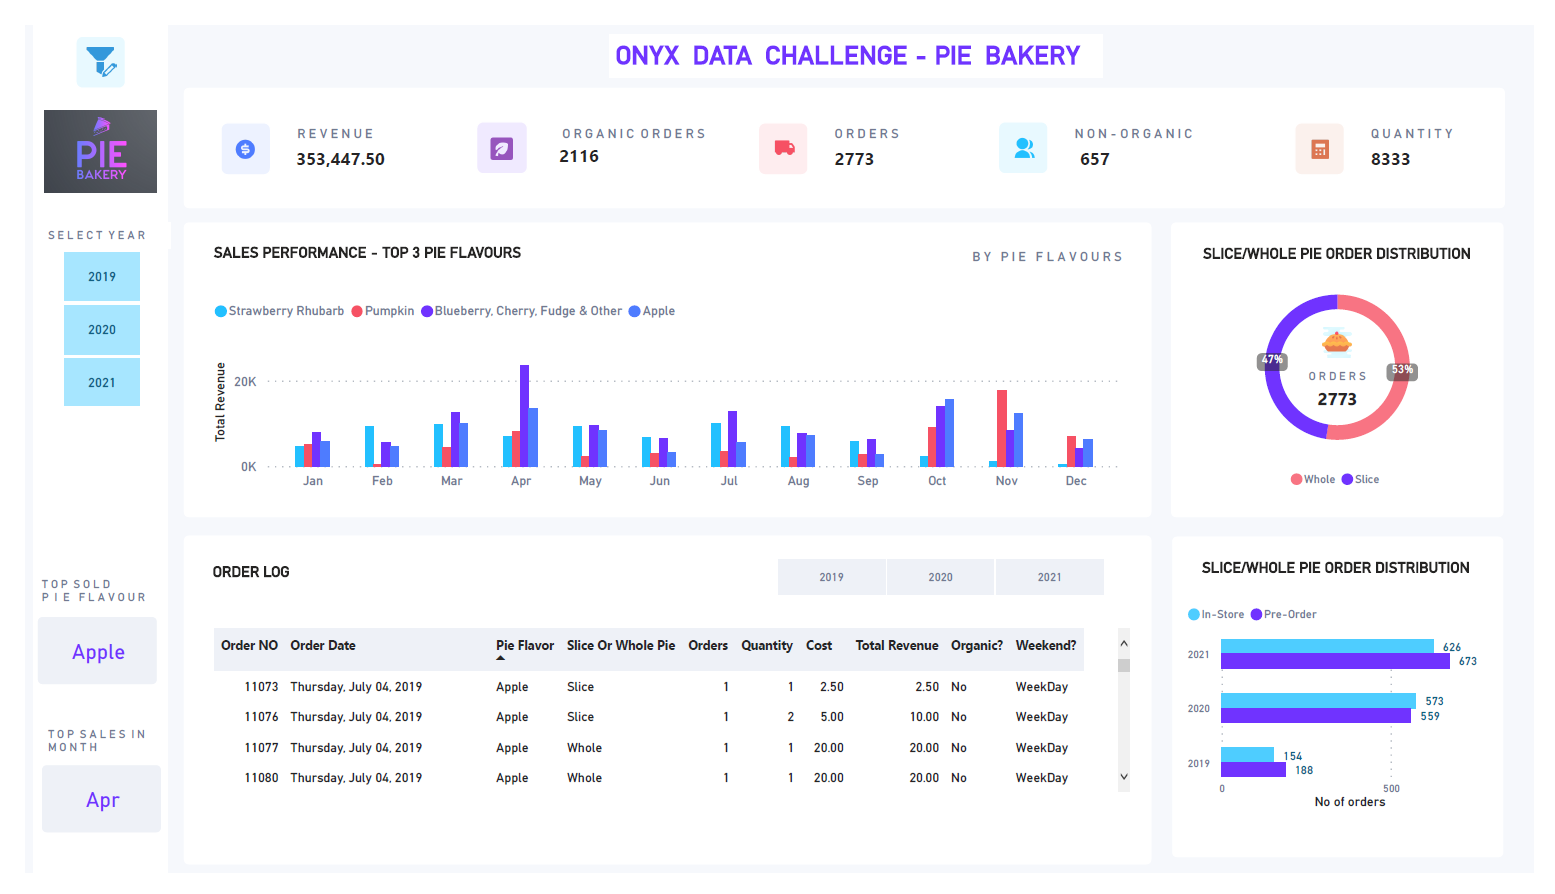

This screenshot's page, from the dashboard's own definition file:
{"tool":"powerbi","page":{"name":"Page 1","canvas":[1280,720],"ordinal":0},"visuals":[{"type":"basicShape","box":[43.1,9.8,42.8,44.7],"z":0,"group":"g5"},{"type":"group","id":"g1","title":"KPI","box":[134.6,54,1120.9,102.2],"z":0},{"type":"basicShape","box":[134.6,54,1120.9,102.2],"z":0,"group":"g1"},{"type":"basicShape","box":[134.6,168,821.2,250.5],"z":0,"group":"g3"},{"type":"basicShape","box":[972.5,168,281.9,250.5],"z":0,"group":"g2"},{"type":"basicShape","box":[134.6,434.2,821.2,279],"z":0,"group":"g4"},{"type":"basicShape","box":[973,435,281,272.1],"z":0,"group":"g6"},{"type":"image","box":[29.5,12.9,69.1,36.3],"z":1000,"group":"g5"},{"type":"textbox","box":[225.5,81.2,95.8,24],"z":1000,"group":"g1"},{"type":"group","id":"g2","title":"Donut","box":[972.5,168,281.9,250.5],"z":1000},{"type":"donutChart","fields":{"Y":["CountNonNull(Pi-Day Data.Order NO)"],"Category":["Pi-Day Data.Slice Or Whole Pie"]},"box":[972.5,204.4,281.9,199.4],"z":1000,"group":"g2"},{"type":"clusteredColumnChart","fields":{"Category":["Date Table (CALENDARAUTO).Month Short"],"Y":["Pi-Day Data.Total Revenue"],"Series":["Pi-Day Data.Pie Flavor (groups)"]},"box":[155,223.8,780.5,176.8],"z":1000,"group":"g3"},{"type":"clusteredBarChart","fields":{"Category":["Date Table (CALENDARAUTO).Year"],"Y":["CountNonNull(Pi-Day Data.Order NO)"],"Series":["Pi-Day Data.Pre-Order/In-Store Purchase"]},"box":[980.9,482.1,265.2,188.6],"z":1000,"group":"g6"},{"type":"tableEx","fields":{"Values":["Pi-Day Data.Order NO","Pi-Day Data.Order Date","Pi-Day Data.Pie Flavor","Pi-Day Data.Slice Or Whole Pie","CountNonNull(Pi-Day Data.Order NO)","Sum(Pi-Day Data.Quantity)","Sum(Pi-Day Data.Cost)","Pi-Day Data.Total Revenue","Pi-Day Data.Organic?","Pi-Day Data.Weekend?"]},"box":[155,507.5,786.7,157.6],"z":1000,"group":"g4"},{"type":"multiRowCard","fields":{"Values":["Pi-Day Data.Non - Organic Orders"]},"box":[890,98.1,95.6,30.1],"z":2000,"group":"g1"},{"type":"group","id":"g3","title":"Stacked Column Chart","box":[134.6,168,821.2,250.5],"z":2000},{"type":"textbox","title":"SALES PERFORMANCE - TOP 3 PIE FLAVOURS","box":[155,185.9,420.8,36.8],"z":2000,"group":"g3"},{"type":"textbox","title":"SLICE/WHOLE PIE ORDER DISTRIBUTION","box":[993.5,186.4,238.9,42],"z":2000,"group":"g2"},{"type":"textbox","title":"SLICE/WHOLE PIE ORDER DISTRIBUTION","box":[992.6,453.6,238.9,42],"z":2000,"group":"g6"},{"type":"textbox","title":"ORDER LOG","box":[154.3,457.5,271,47.6],"z":2000,"group":"g4"},{"type":"image","box":[385.1,88.3,38.9,35.4],"z":3000,"group":"g1"},{"type":"textbox","title":"SALES BY QUANTITY","box":[575.8,185.9,359.7,36.8],"z":3000,"group":"g3"},{"type":"image","box":[1070.7,252.4,85,35.4],"z":3000},{"type":"textbox","box":[1068.3,287.5,90.5,23.2],"z":3000,"group":"g2"},{"type":"slicer","fields":{"Values":["Date Table (CALENDARAUTO).Year"]},"box":[613,447.2,326,44.2],"z":3000,"group":"g4"},{"type":"basicShape","box":[6.9,0,114,721],"z":4000},{"type":"textbox","box":[885.5,81,122.6,24.3],"z":4000,"group":"g1"},{"type":"card","fields":{"Values":["CountNonNull(Pi-Day Data.Order NO)"]},"box":[1064,305.4,100,25.3],"z":4000,"group":"g2"},{"type":"textbox","box":[682,81.1,95.8,24],"z":5000,"group":"g1"},{"type":"group","id":"g4","title":"Group 2","box":[134.6,434.2,821.2,279],"z":5000},{"type":"textbox","box":[450.3,81.3,151.3,26.5],"z":6000,"group":"g1"},{"type":"textbox","box":[496.1,8.8,418.5,36.3],"z":7000},{"type":"basicShape","box":[382.7,82.4,43.6,44.8],"z":7000,"group":"g1"},{"type":"group","id":"g5","title":"Group 1","box":[29.5,9.8,68.8,44.2],"z":8000},{"type":"multiRowCard","fields":{"Values":["Pi-Day Data.No. Of Organic Orders"]},"box":[448,95.6,95.8,30],"z":8000,"group":"g1"},{"type":"textbox","box":[1137.3,81.1,95.8,24],"z":9000,"group":"g1"},{"type":"card","title":"Top Sold Pie Flavour","fields":{"Values":["Date Table (CALENDARAUTO).Top Sold Pie Flavour"]},"box":[10.8,503,101.2,57],"z":9000},{"type":"multiRowCard","fields":{"Values":["Pi-Day Data.Total Revenue"]},"box":[225.3,98.1,95.8,30],"z":10000,"group":"g1"},{"type":"textbox","box":[8.8,463.7,109,32.4],"z":10000},{"type":"multiRowCard","fields":{"Values":["Count(Pi-Day Data.Order NO)"]},"box":[681.7,97.9,95.8,30],"z":11000,"group":"g1"},{"type":"textbox","box":[13.8,591.4,99.2,32.4],"z":11000},{"type":"multiRowCard","fields":{"Values":["Sum(Pi-Day Data.Quantity)"]},"box":[1137.1,97.9,95.8,30],"z":12000,"group":"g1"},{"type":"card","title":"Top Sold Pie Flavour","fields":{"Values":["Pi-Day Data.Month with Most Sales"]},"box":[14,628.6,100.8,56.9],"z":12000},{"type":"image","box":[11.8,67.8,105.1,79.6],"z":13000},{"type":"basicShape","box":[165.4,83.1,42.9,45.1],"z":13000,"group":"g1"},{"type":"basicShape","box":[621.9,83,42.9,45.1],"z":14000,"group":"g1"},{"type":"slicer","fields":{"Values":["Date Table (CALENDARAUTO).Year"]},"box":[6.9,186.6,114,144.4],"z":14000},{"type":"basicShape","box":[825.7,82.7,42.9,45.1],"z":15000,"group":"g1"},{"type":"textbox","box":[13.8,168,109,21.6],"z":15000},{"type":"image","box":[832.9,90.5,29,30.5],"z":16000,"group":"g1"},{"type":"group","id":"g6","title":"Donut","box":[973,435,281,272.1],"z":16000},{"type":"basicShape","box":[1077.2,83,42.9,45.1],"z":17000,"group":"g1"},{"type":"image","box":[172.8,90.8,29,30.5],"z":18000,"group":"g1"},{"type":"image","box":[630.2,89.7,28.5,30],"z":19000,"group":"g1"},{"type":"image","box":[1084.4,90.8,29,30.5],"z":20000,"group":"g1"}]}

Visuals, with their boxes in screenshot pixels (x1, y1, x2, y2), scaled from the page's 1280x720 canvas onto the 1555x894 screenshot:
basicShape: [left=52, top=12, right=104, bottom=68]
"KPI" group: [left=164, top=67, right=1525, bottom=194]
basicShape: [left=164, top=67, right=1525, bottom=194]
basicShape: [left=164, top=209, right=1161, bottom=520]
basicShape: [left=1181, top=209, right=1524, bottom=520]
basicShape: [left=164, top=539, right=1161, bottom=886]
basicShape: [left=1182, top=540, right=1523, bottom=878]
image: [left=36, top=16, right=120, bottom=61]
textbox: [left=274, top=101, right=390, bottom=131]
"Donut" group: [left=1181, top=209, right=1524, bottom=520]
donutChart - CountNonNull(Pi-Day Data.Order NO) x Pi-Day Data.Slice Or Whole Pie: [left=1181, top=254, right=1524, bottom=501]
clusteredColumnChart - Date Table (CALENDARAUTO).Month Short x Pi-Day Data.Total Revenue: [left=188, top=278, right=1136, bottom=497]
clusteredBarChart - Date Table (CALENDARAUTO).Year x CountNonNull(Pi-Day Data.Order NO): [left=1192, top=599, right=1514, bottom=833]
tableEx - Pi-Day Data.Order NO x Pi-Day Data.Order Date: [left=188, top=630, right=1144, bottom=826]
multiRowCard - Pi-Day Data.Non - Organic Orders: [left=1081, top=122, right=1197, bottom=159]
"Stacked Column Chart" group: [left=164, top=209, right=1161, bottom=520]
"SALES PERFORMANCE - TOP 3 PIE FLAVOURS" textbox: [left=188, top=231, right=700, bottom=277]
"SLICE/WHOLE PIE ORDER DISTRIBUTION" textbox: [left=1207, top=231, right=1497, bottom=284]
"SLICE/WHOLE PIE ORDER DISTRIBUTION" textbox: [left=1206, top=563, right=1496, bottom=615]
"ORDER LOG" textbox: [left=187, top=568, right=517, bottom=627]
image: [left=468, top=110, right=515, bottom=154]
"SALES BY QUANTITY" textbox: [left=700, top=231, right=1136, bottom=277]
image: [left=1301, top=313, right=1404, bottom=357]
textbox: [left=1298, top=357, right=1408, bottom=386]
slicer - Date Table (CALENDARAUTO).Year: [left=745, top=555, right=1141, bottom=610]
basicShape: [left=8, top=0, right=147, bottom=893]
textbox: [left=1076, top=101, right=1225, bottom=131]
card - CountNonNull(Pi-Day Data.Order NO): [left=1293, top=379, right=1414, bottom=411]
textbox: [left=829, top=101, right=945, bottom=130]
"Group 2" group: [left=164, top=539, right=1161, bottom=886]
textbox: [left=547, top=101, right=731, bottom=134]
textbox: [left=603, top=11, right=1111, bottom=56]
basicShape: [left=465, top=102, right=518, bottom=158]
"Group 1" group: [left=36, top=12, right=119, bottom=67]
multiRowCard - Pi-Day Data.No. Of Organic Orders: [left=544, top=119, right=661, bottom=156]
textbox: [left=1382, top=101, right=1498, bottom=130]
"Top Sold Pie Flavour" card: [left=13, top=625, right=136, bottom=695]
multiRowCard - Pi-Day Data.Total Revenue: [left=274, top=122, right=390, bottom=159]
textbox: [left=11, top=576, right=143, bottom=616]
multiRowCard - Count(Pi-Day Data.Order NO): [left=828, top=122, right=945, bottom=159]
textbox: [left=17, top=734, right=137, bottom=775]
multiRowCard - Sum(Pi-Day Data.Quantity): [left=1381, top=122, right=1498, bottom=159]
"Top Sold Pie Flavour" card: [left=17, top=781, right=139, bottom=851]
image: [left=14, top=84, right=142, bottom=183]
basicShape: [left=201, top=103, right=253, bottom=159]
basicShape: [left=756, top=103, right=808, bottom=159]
slicer - Date Table (CALENDARAUTO).Year: [left=8, top=232, right=147, bottom=411]
basicShape: [left=1003, top=103, right=1055, bottom=159]
textbox: [left=17, top=209, right=149, bottom=235]
image: [left=1012, top=112, right=1047, bottom=150]
"Donut" group: [left=1182, top=540, right=1523, bottom=878]
basicShape: [left=1309, top=103, right=1361, bottom=159]
image: [left=210, top=113, right=245, bottom=151]
image: [left=766, top=111, right=800, bottom=149]
image: [left=1317, top=113, right=1353, bottom=151]
